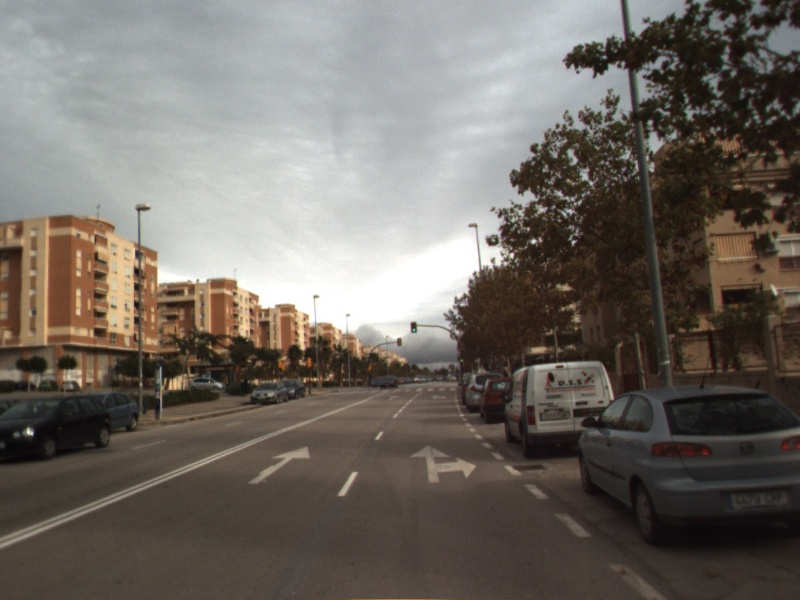STRAIGHT: (246, 444, 312, 486)
STRAIGHT_RIGHT: (408, 442, 479, 485)
